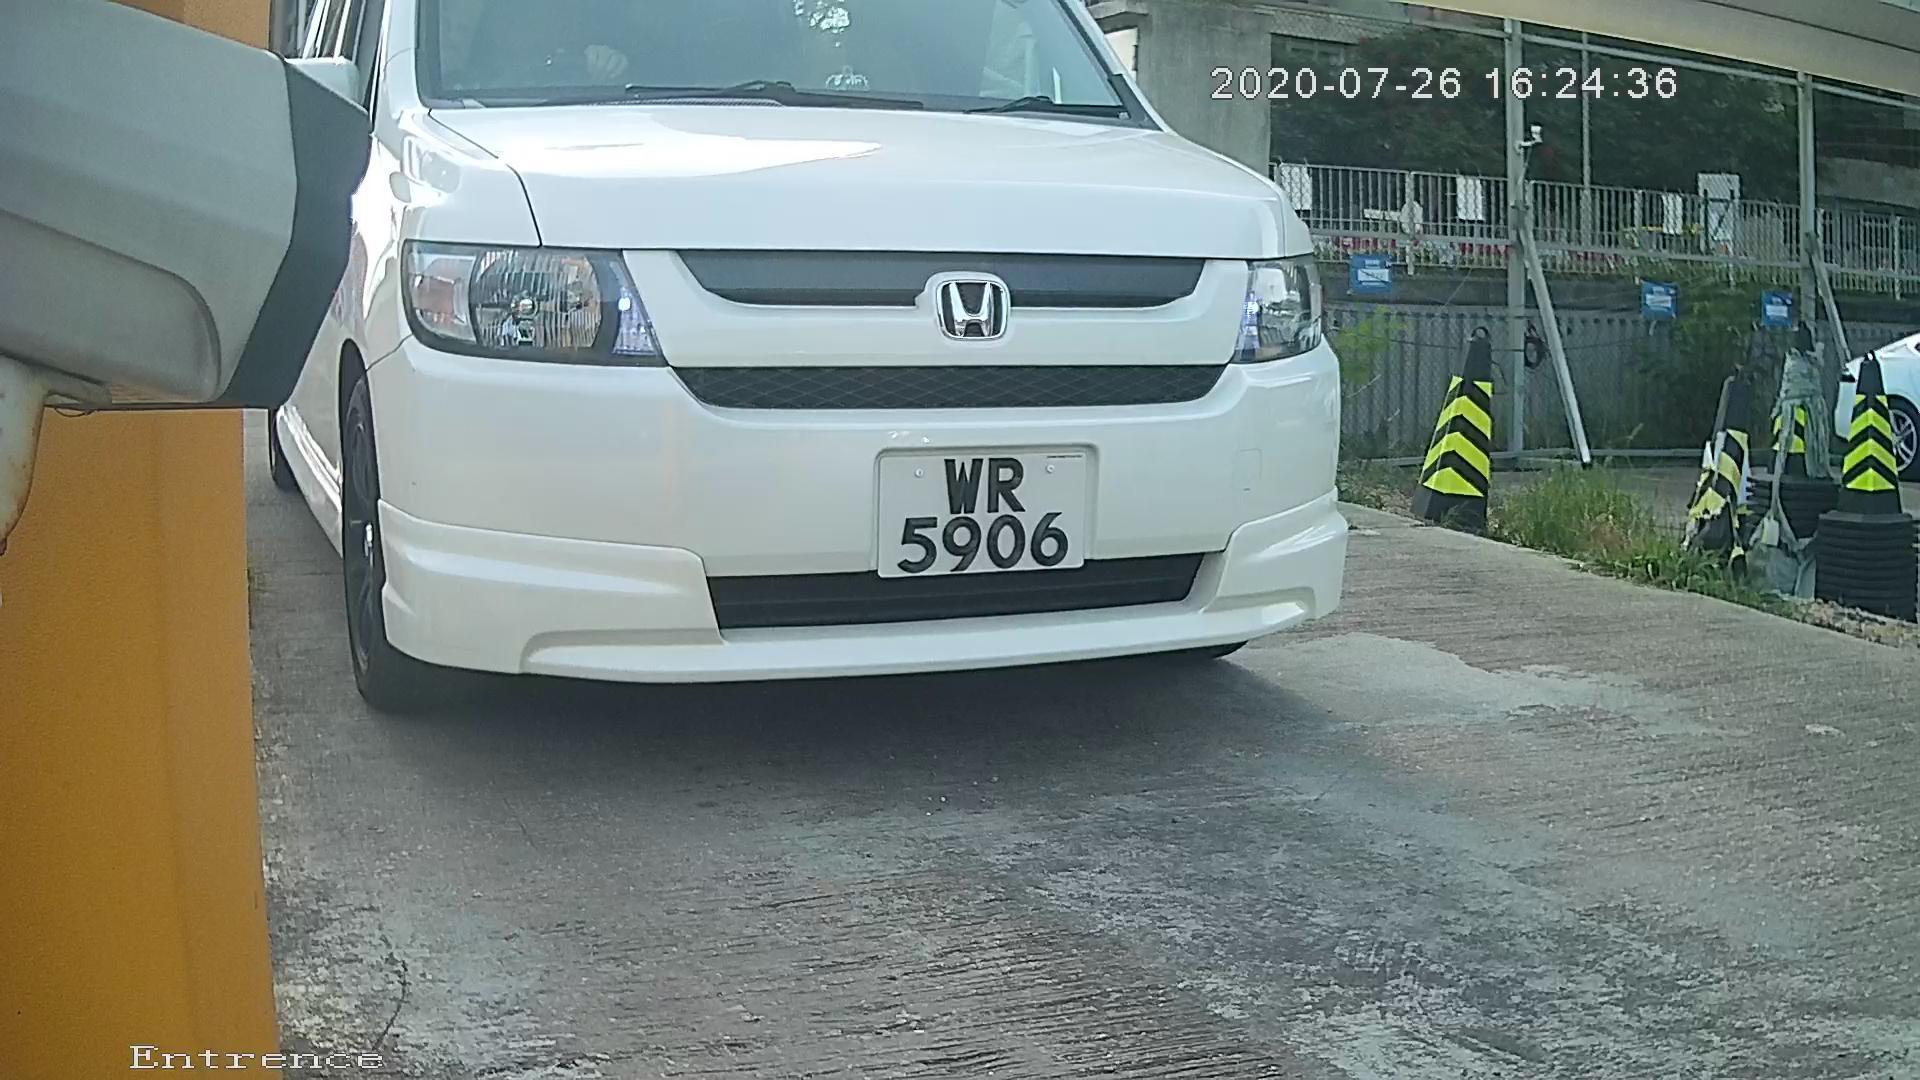privatecar: (241, 1, 1491, 742)
